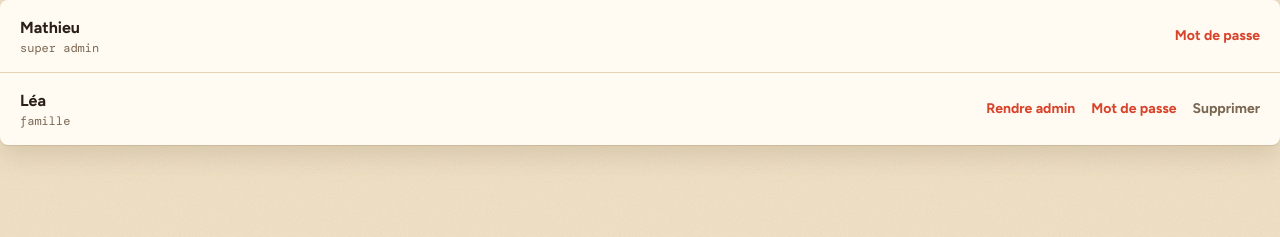
it: UsersPanel › shows the error when the role change fails
Click the button "Rendre admin" at (1031, 109), box [986,87,1075,131]
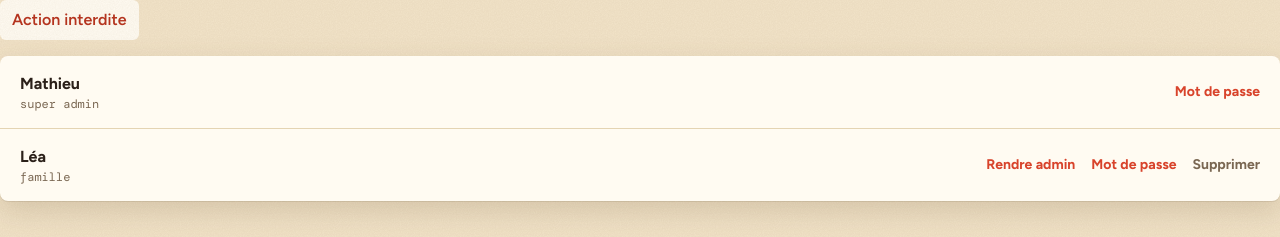
Check: the message reads "Action interdite", box [12,10,126,29]
